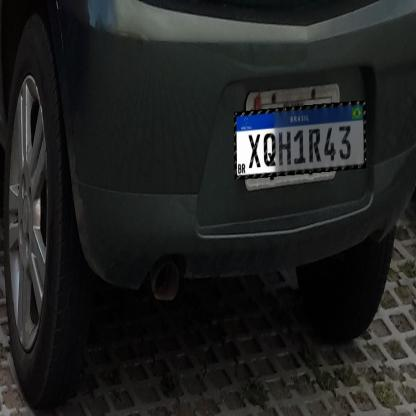PlacaM: (234, 101, 366, 179)
